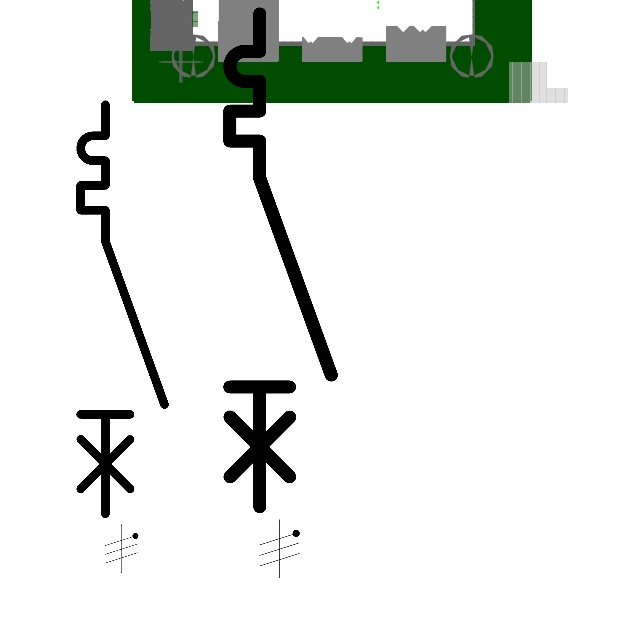interruptor_termomagnetico: (217, 1, 344, 519), (70, 94, 175, 524)
